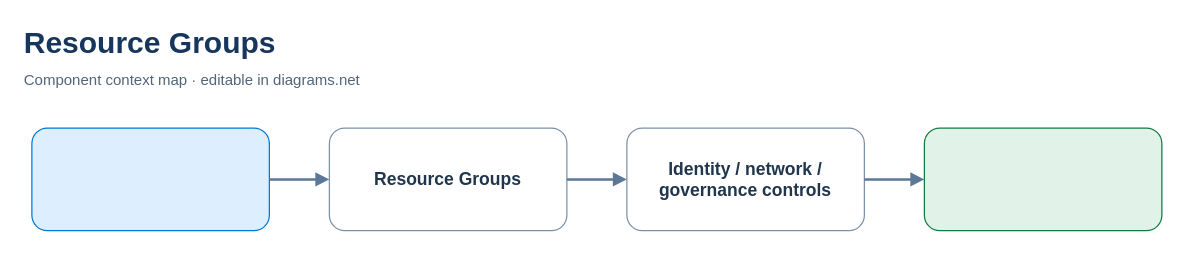
Some shapes in this 1184 by 253 pixel diagram are drawn without their labels. Here are the shapes that lost their labels. From the top down, the box of each, then its label:
(31, 127, 269, 231): A · Cloud Foundation & Landing Zones
(923, 127, 1162, 231): Monitoring / resilience / operations
